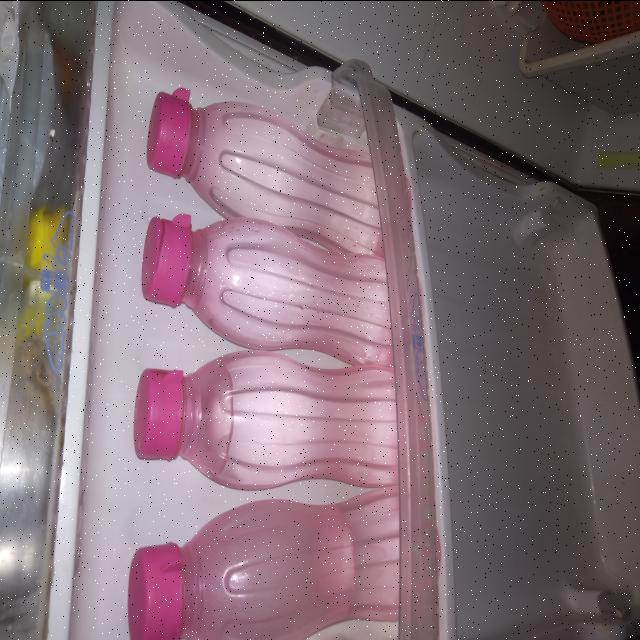plastic: (137, 195, 416, 375), (147, 77, 410, 266), (125, 486, 440, 636), (132, 349, 426, 494)
